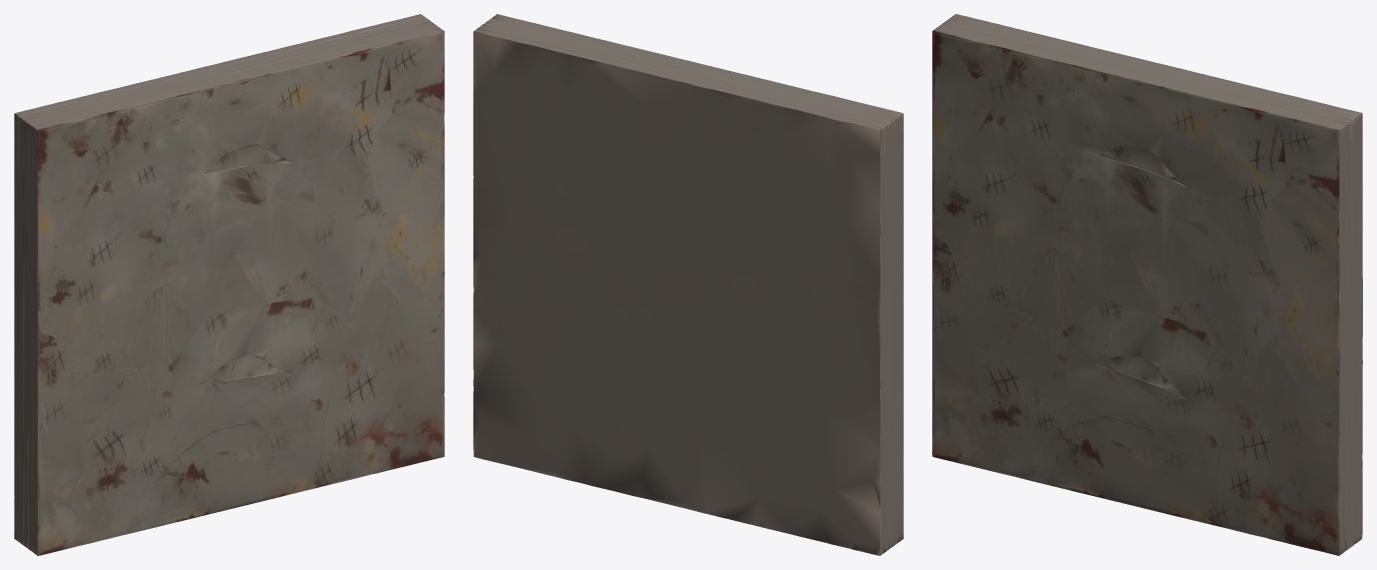
Rendered from finish_metal_ok_idle.glb.
The picture shows the model from 3 angles, left to right: view 1: azimuth 30°, elevation 25°; view 2: azimuth 150°, elevation 25°; view 3: azimuth 330°, elevation 25°; orthographic projection.
Visible parts, largest first — view 1: tripo_node_b6a51935-9a77-4fb1-88fe-2a1952e98336; view 2: tripo_node_b6a51935-9a77-4fb1-88fe-2a1952e98336; view 3: tripo_node_b6a51935-9a77-4fb1-88fe-2a1952e98336.
Boxes of the visible parts, <box> form: tripo_node_b6a51935-9a77-4fb1-88fe-2a1952e98336: <box>14,14,444,555</box>; tripo_node_b6a51935-9a77-4fb1-88fe-2a1952e98336: <box>473,14,903,555</box>; tripo_node_b6a51935-9a77-4fb1-88fe-2a1952e98336: <box>932,14,1362,555</box>.
Bounding box in the file's own units: 1 × 1 × 0.1.
Materials: 1 (1 with a texture image).
